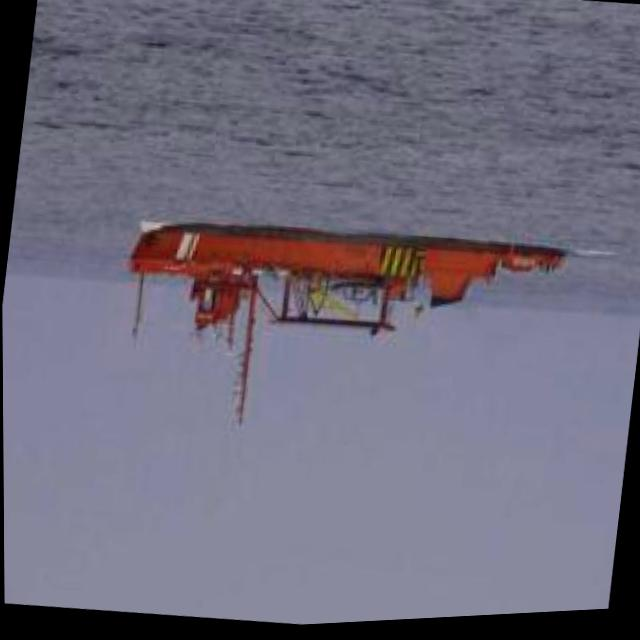ship2: (123, 220, 567, 427)
